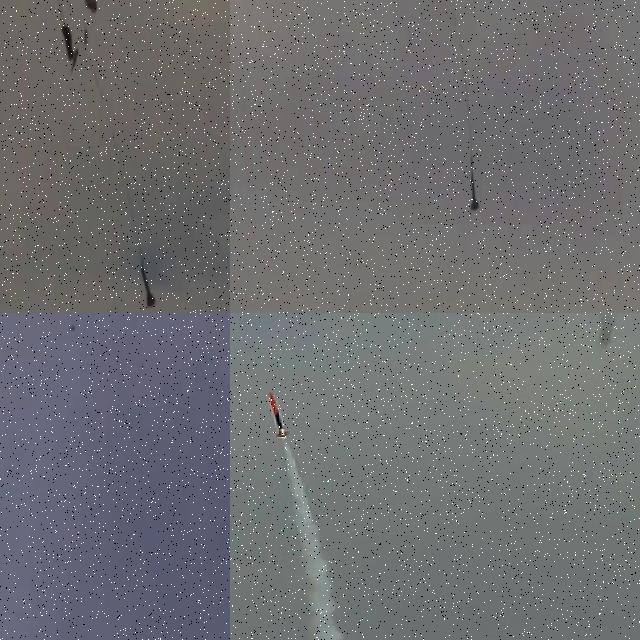Rocket: (268, 392, 290, 439), (140, 266, 154, 308), (471, 174, 478, 210), (68, 325, 76, 331)
